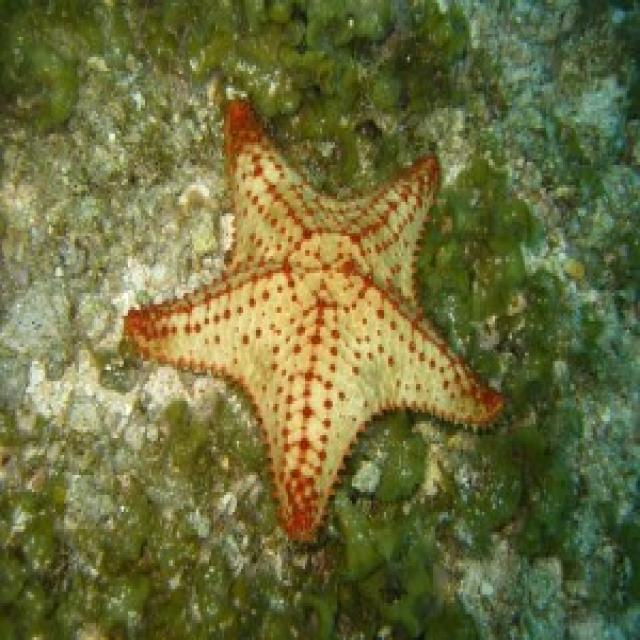Starfish: (125, 93, 509, 546)
